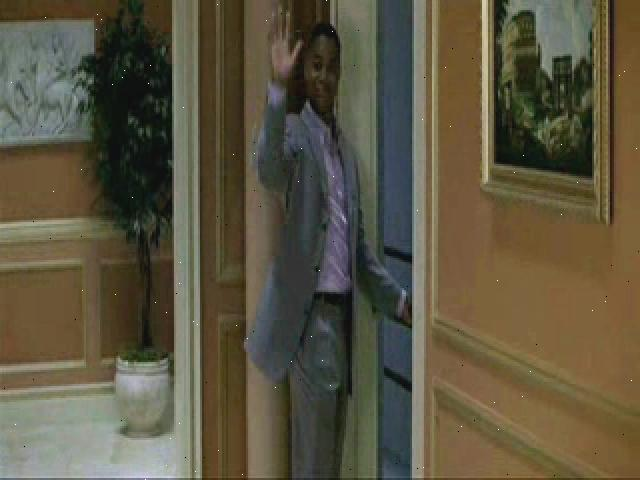T: (239, 0, 416, 480)
